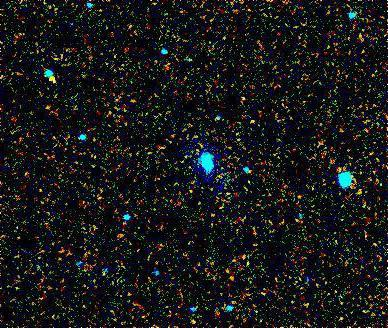star: (39, 61, 69, 91)
